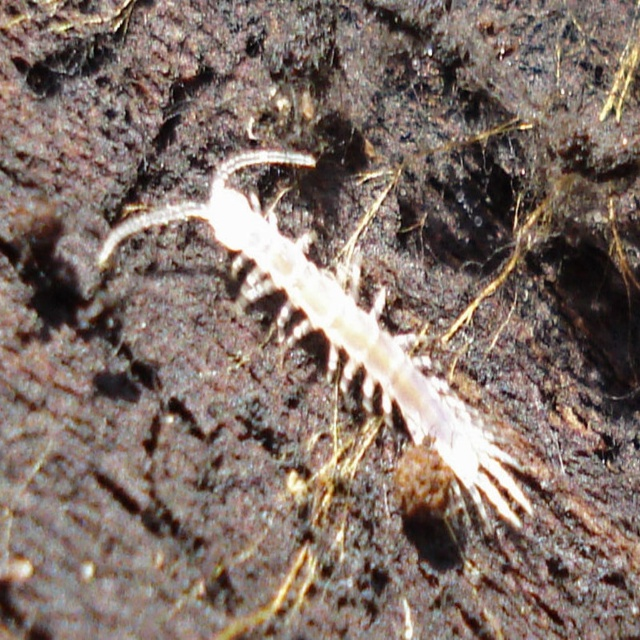Centipede: (87, 70, 523, 555)
